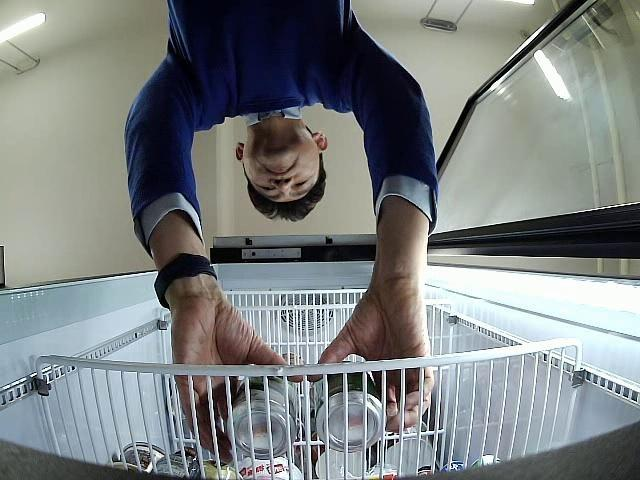12_chilsungCider: (228, 375, 298, 460), (314, 373, 388, 453)
